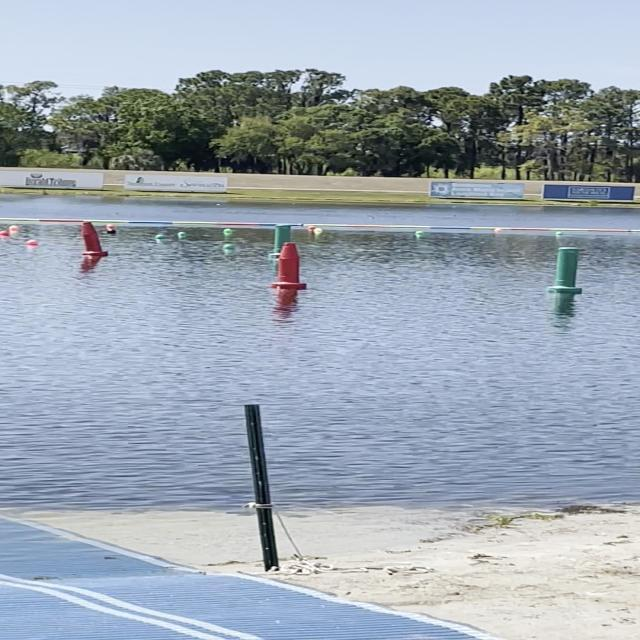buoy: (23, 239, 40, 246), (221, 243, 235, 250), (154, 233, 167, 240), (492, 226, 503, 234), (553, 231, 566, 237), (106, 228, 118, 234), (223, 228, 234, 234), (414, 230, 425, 236), (0, 229, 11, 235), (307, 224, 315, 232), (314, 228, 324, 234), (105, 224, 114, 230), (7, 226, 20, 230), (176, 232, 186, 237)
